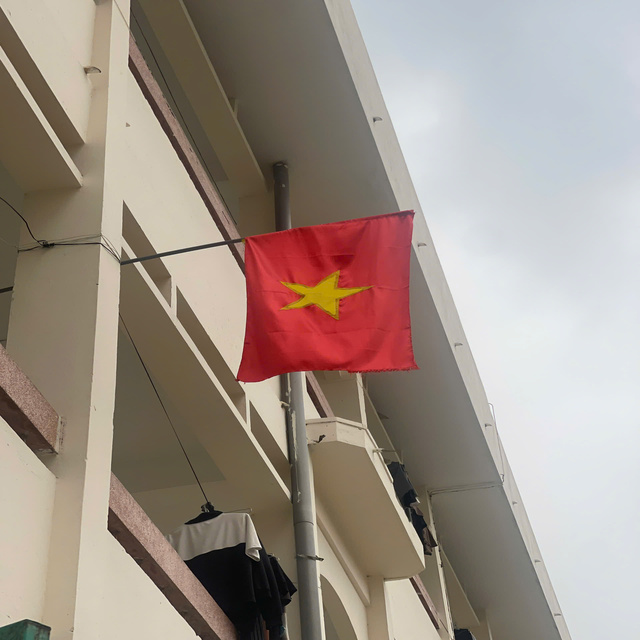laco: (225, 198, 428, 392)
